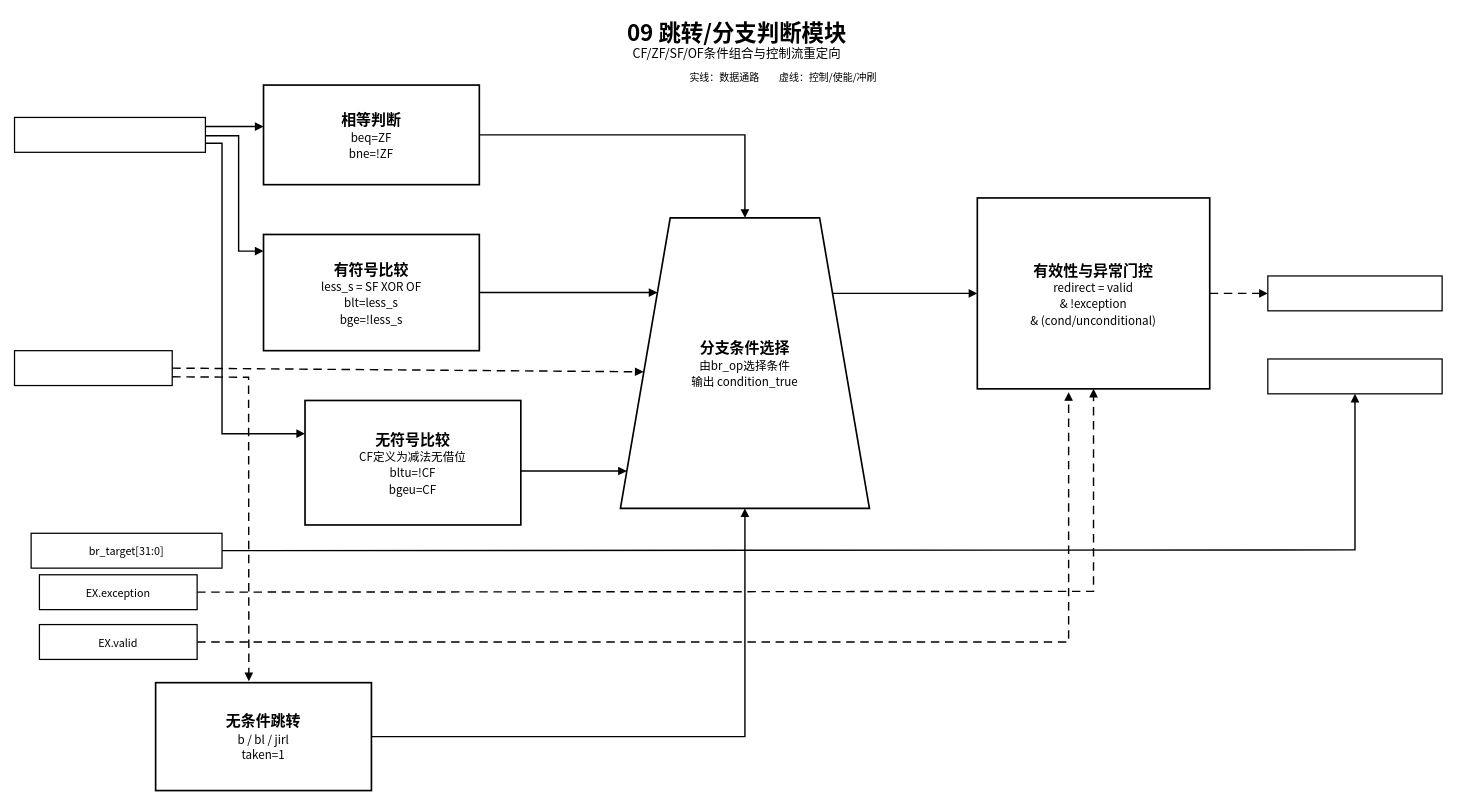
This 1457x805 diagram has some shape labels left out. The shapes that lost their labels are listed below. From the top down, each one's centre as x and y in pixels, then its label:
the point at 110,134: CF / ZF / SF / OF
the point at 1354,293: branch_redirect
the point at 93,368: br_op
the point at 1354,376: branch_target[31:0]
